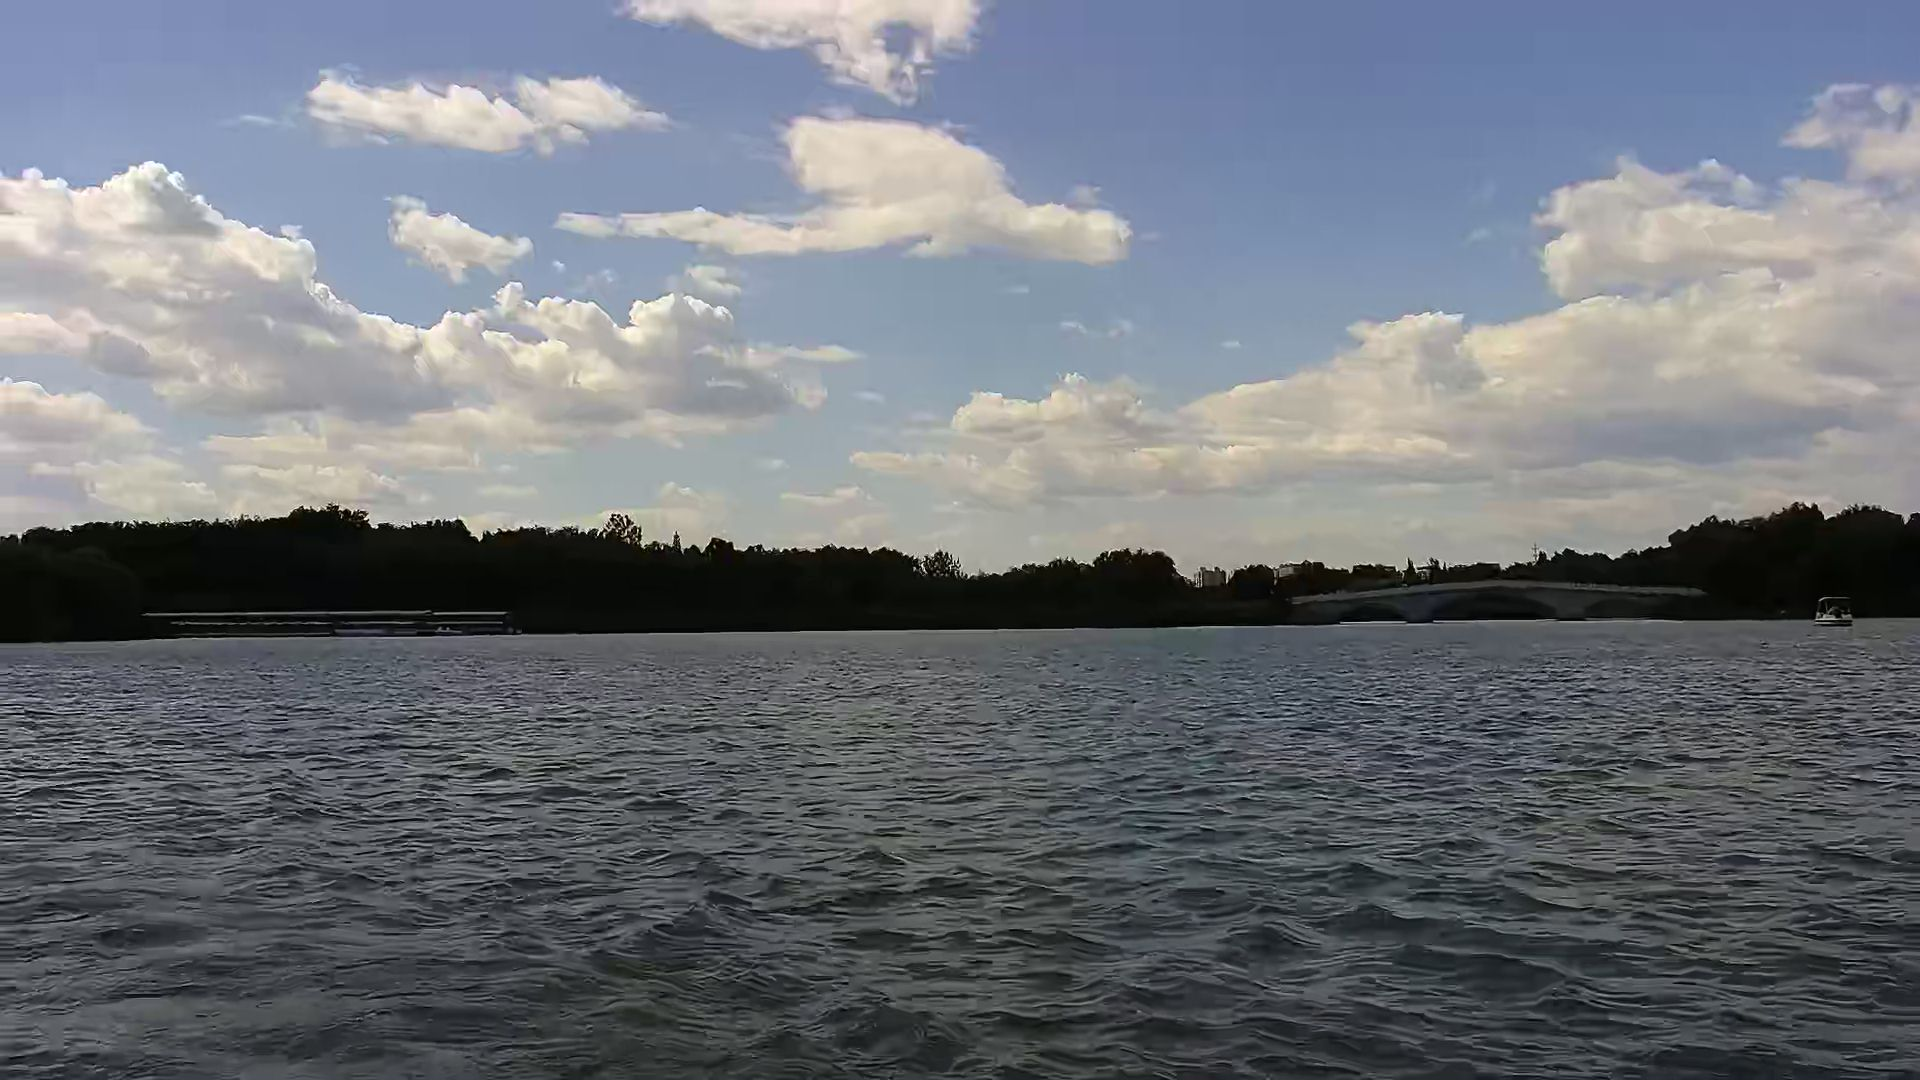boat: (1809, 591, 1870, 633)
bridge: (1292, 576, 1712, 622)
